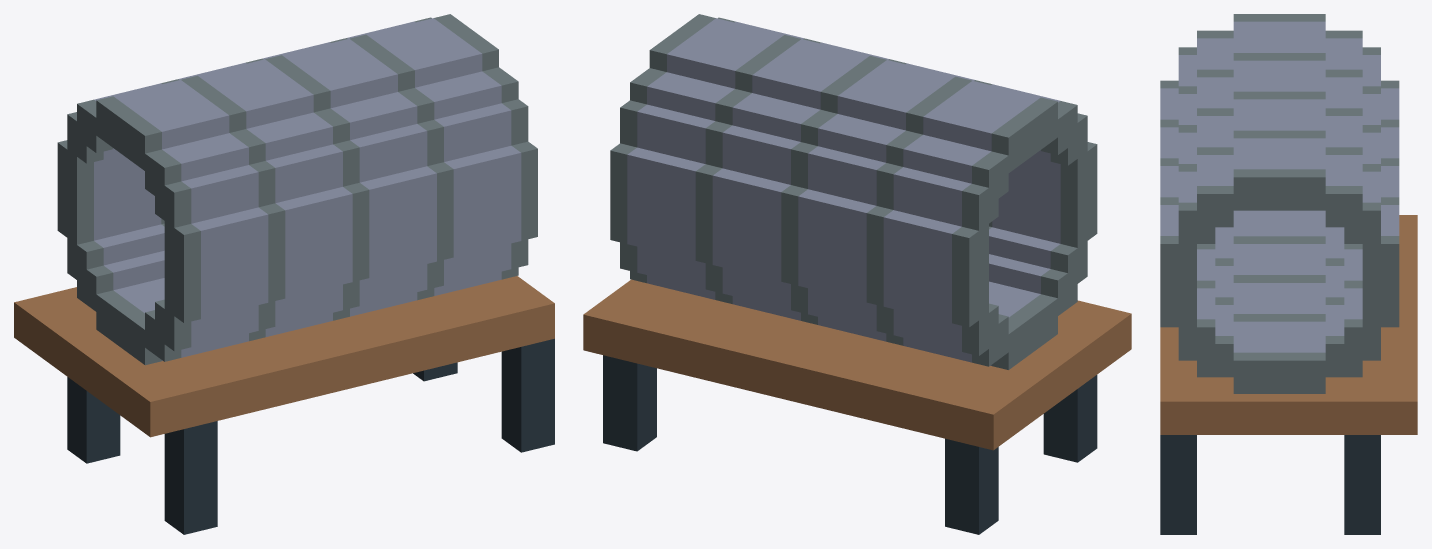
File: aerospace-08.glb
The picture shows the model from 3 angles, left to right: view 1: azimuth 30°, elevation 25°; view 2: azimuth 150°, elevation 25°; view 3: azimuth 270°, elevation 25°; orthographic projection. The views are drawn at different scales.
Visible parts, largest first — view 1: Wind tunnel; view 2: Wind tunnel; view 3: Wind tunnel.
Part boxes in pixels (x1=…): Wind tunnel: x1=14, y1=14, x2=554, y2=534; Wind tunnel: x1=583, y1=14, x2=1131, y2=534; Wind tunnel: x1=1160, y1=14, x2=1417, y2=534.
Bounding box in the file's own units: 1.92 × 1.68 × 1.12.
